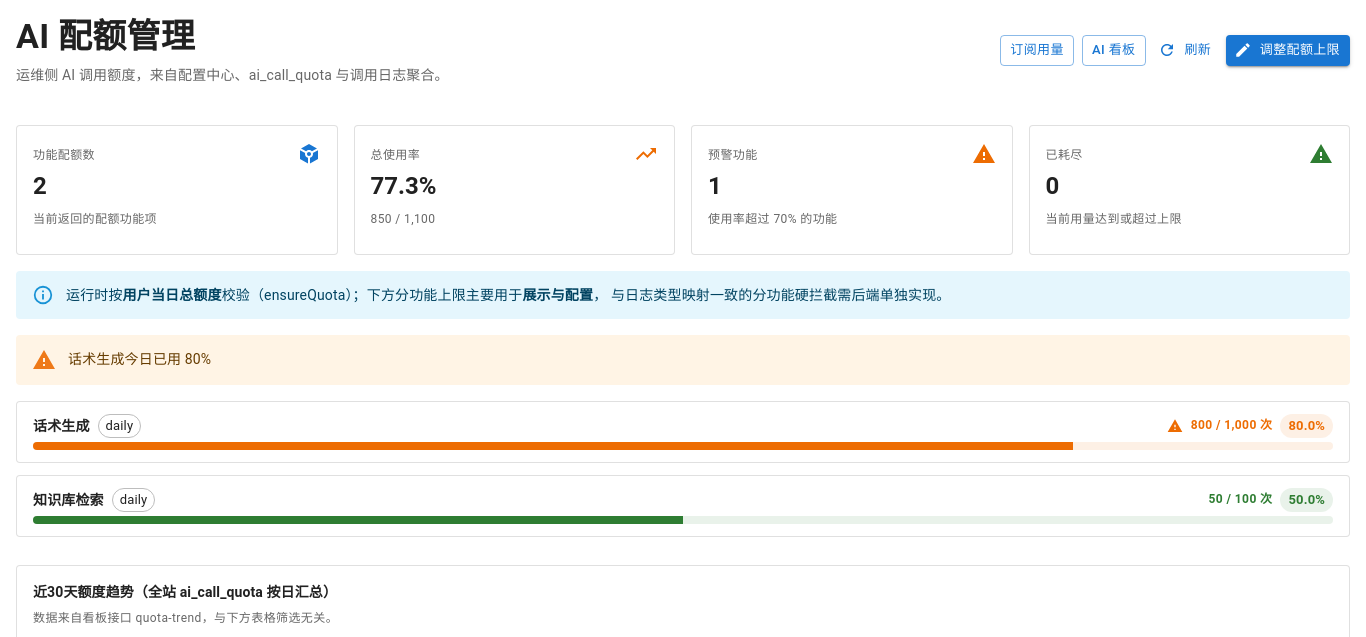
Test: AiQuotaPage › keeps quota edit dialog input and shows update endpoint when save fails
The width and height of the screenshot is (1366, 637).
expect the text "总使用率" is shown: met, box [370,148,420,162]
Click the button "调整配额上限".
click(1288, 50)  # box [1226,35,1350,66]
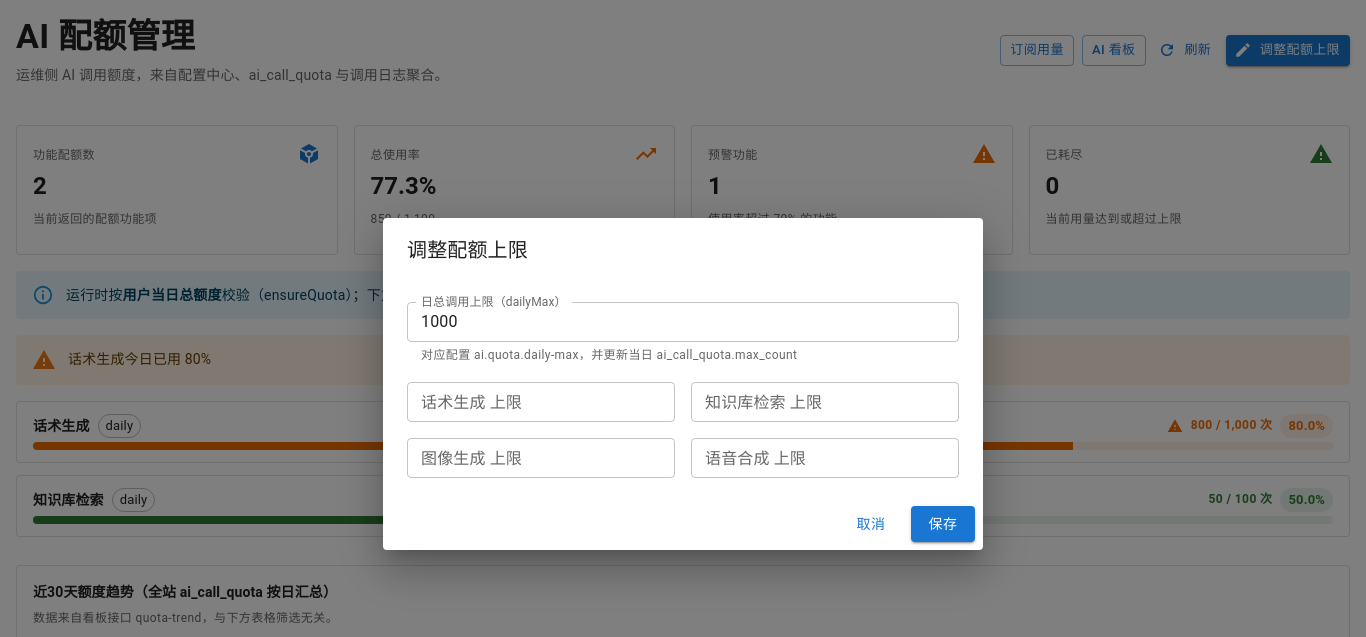
Replace the text in the number field labelled "日总调用上限（dailyMax）" with "1500" at (683, 322), box [407,302,959,342]
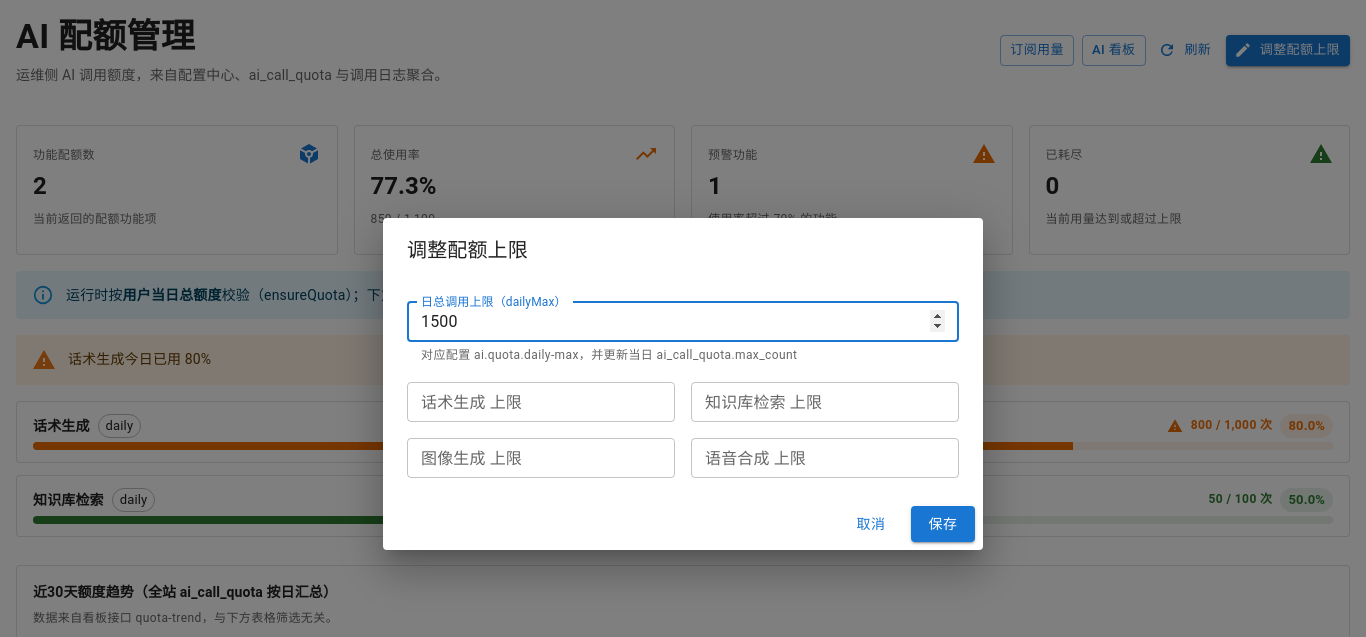
Click the button "保存".
click(943, 524)  # box [911,506,975,542]
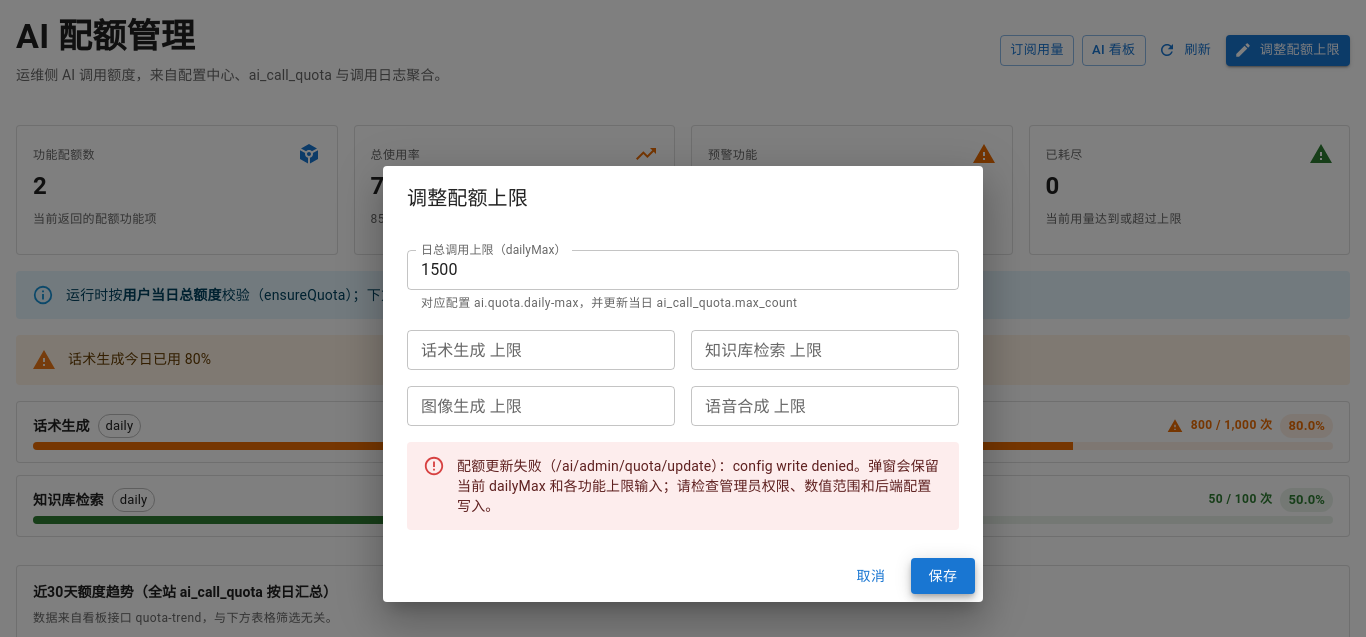
expect the dialog "调整配额上限" is shown: met, box [383,166,983,602]
expect the text "配额更新失败（/ai/admin/quota/update）：config write denied" is shown: met, box [457,458,854,474]
